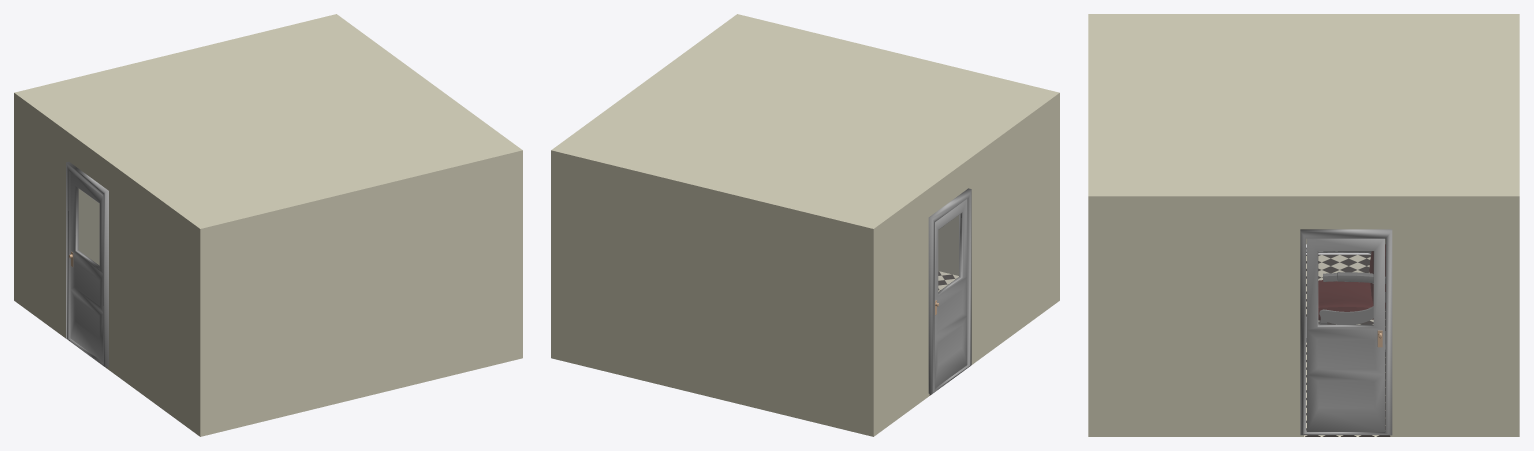
Rendered from barber_shop.fbx.
The picture shows the model from 3 angles, left to right: view 1: azimuth 30°, elevation 25°; view 2: azimuth 150°, elevation 25°; view 3: azimuth 270°, elevation 25°; orthographic projection. The views are drawn at different scales.
Parts seen in each view (by area): view 1: pPlane12, pPlane15, pPlane14, polySurface118, polySurface117, pPlane11, polySurface120; view 2: pPlane11, pPlane15, pPlane14, polySurface118, polySurface117, polySurface120, pPlane12; view 3: pPlane13, pPlane15, polySurface121, polySurface122, polySurface123, polySurface91, pPlane10.
Boxes of the visible parts, x1,y1,x2,y2 form: pPlane12: (200, 150, 522, 436); pPlane15: (14, 14, 522, 228); pPlane14: (14, 93, 200, 436); polySurface118: (70, 172, 102, 361); polySurface117: (66, 162, 108, 367); pPlane11: (78, 189, 99, 265); polySurface120: (78, 189, 98, 265); pPlane11: (551, 150, 873, 436); pPlane15: (551, 14, 1059, 228); pPlane14: (873, 93, 1059, 436); polySurface118: (935, 199, 967, 388); polySurface117: (928, 188, 971, 394); polySurface120: (939, 215, 959, 291); pPlane12: (938, 215, 958, 275); pPlane13: (1088, 196, 1519, 436); pPlane15: (1088, 14, 1519, 196); polySurface121: (1307, 238, 1385, 431); polySurface122: (1300, 229, 1392, 435); polySurface123: (1319, 252, 1372, 324); polySurface91: (1306, 244, 1385, 351); pPlane10: (1304, 254, 1390, 436).
Bounding box in the file's own units: 4.12 × 2.46 × 4.
